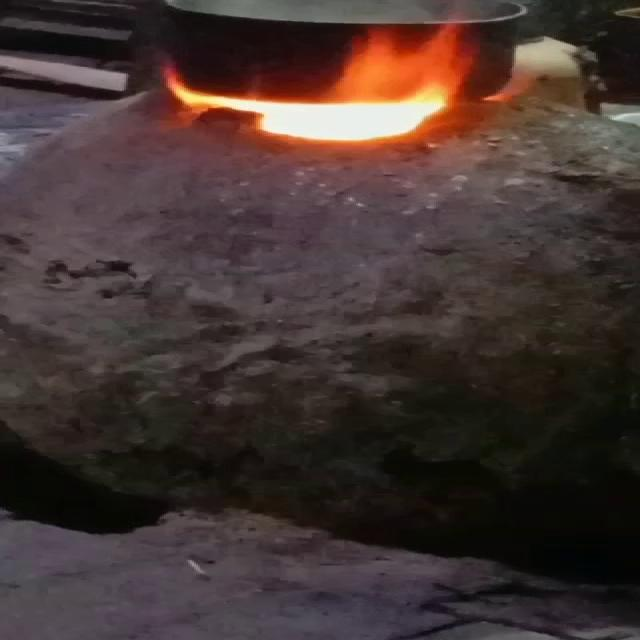Fire: (166, 25, 460, 143)
